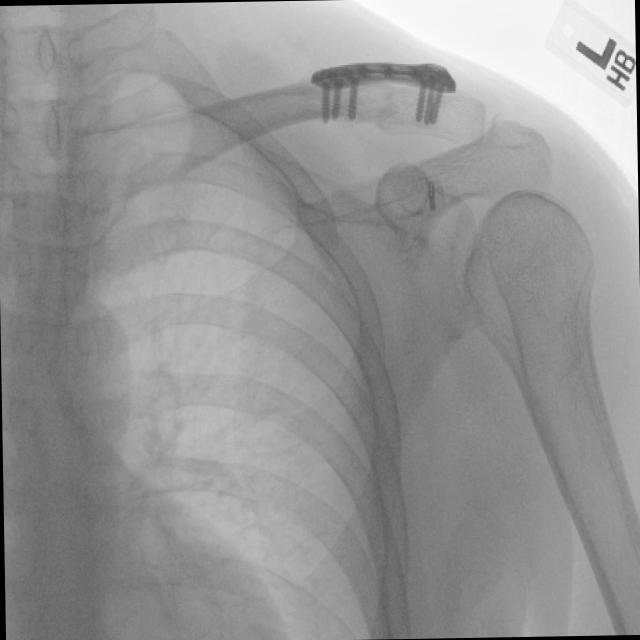shoulder fracture: (363, 79, 414, 144)
